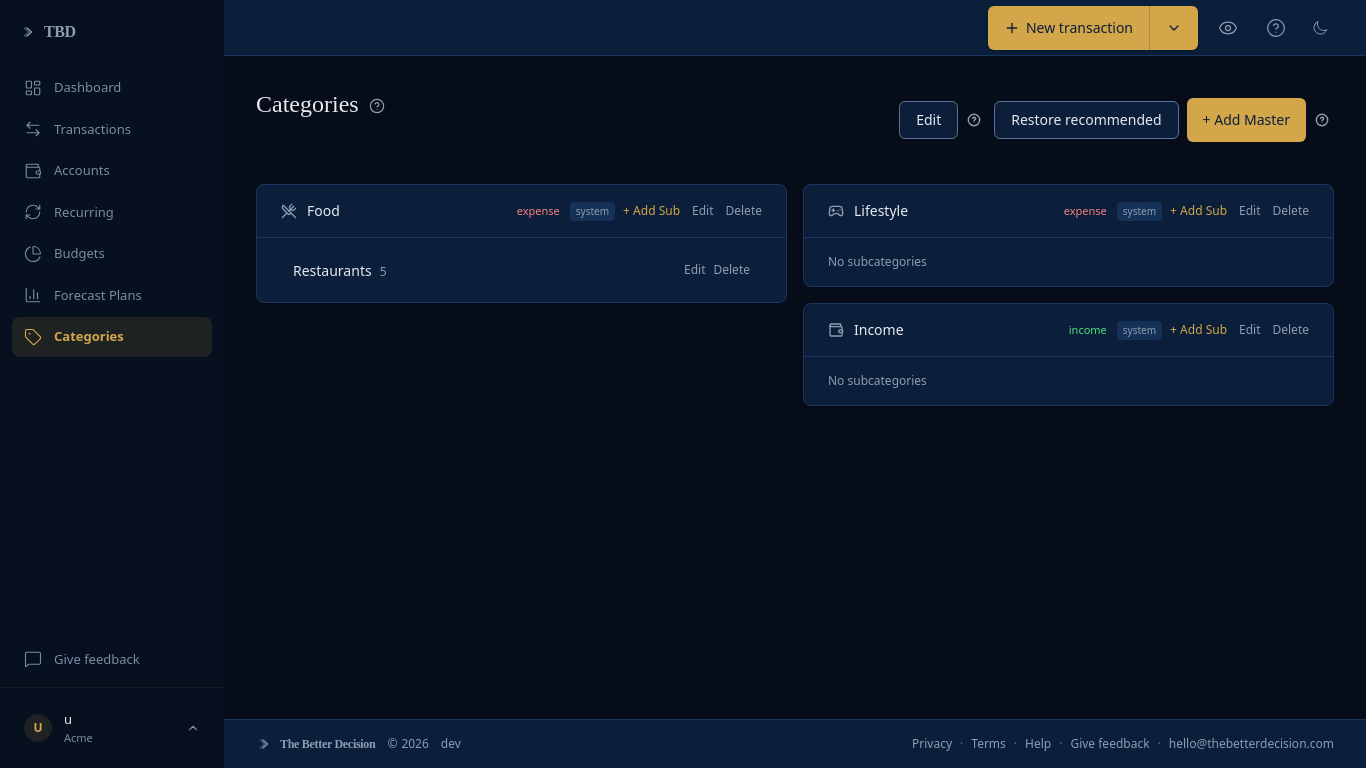
CategoriesPage -C2b render-level gates › exiting Edit mode clears drag handles and drop zones
Expected: the text "Restaurants" is shown, [293, 261, 372, 280]
Click the button with test id "categories-edit-toggle" at x=929, y=120, box [899, 101, 958, 139]
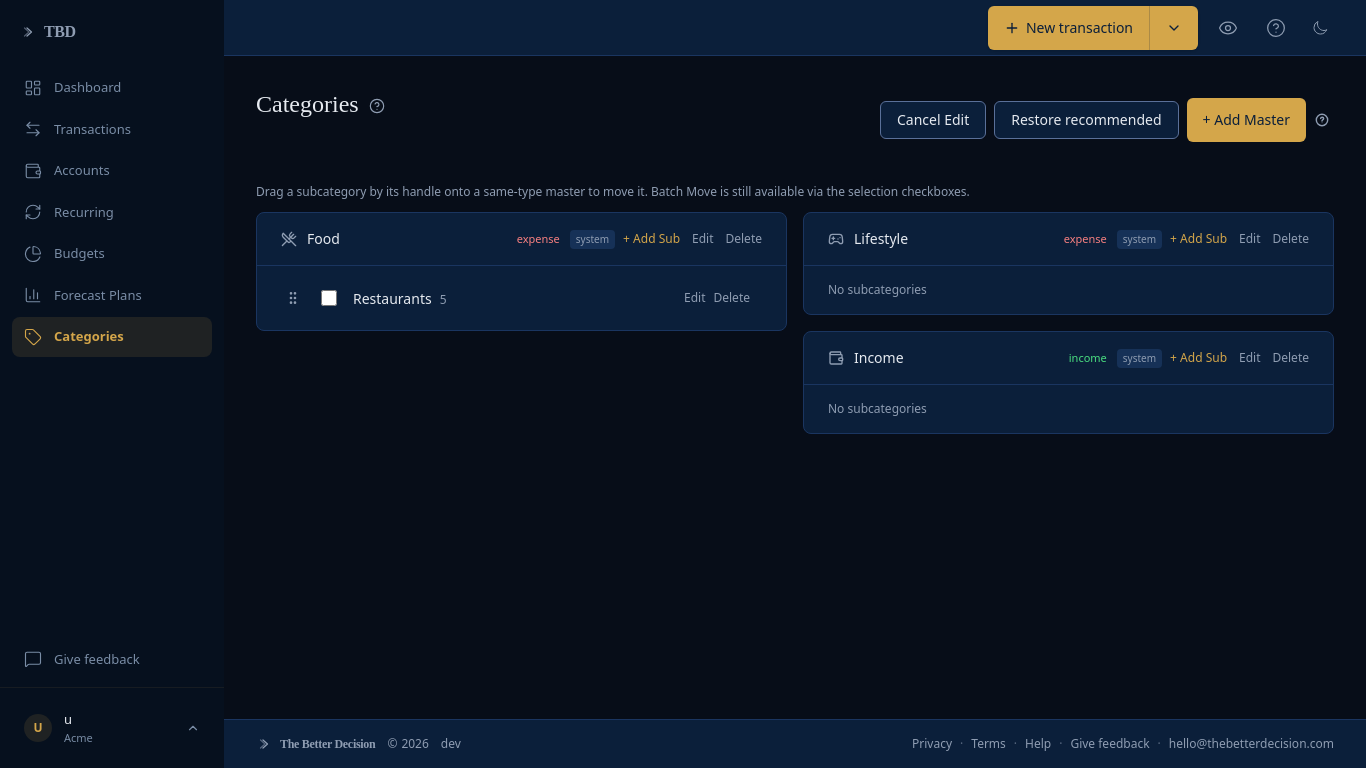
Now the button with test id "sub-drag-handle-101" is shown, box [281, 282, 305, 314]
Click the button with test id "categories-edit-toggle" at x=933, y=120, box [880, 101, 986, 139]
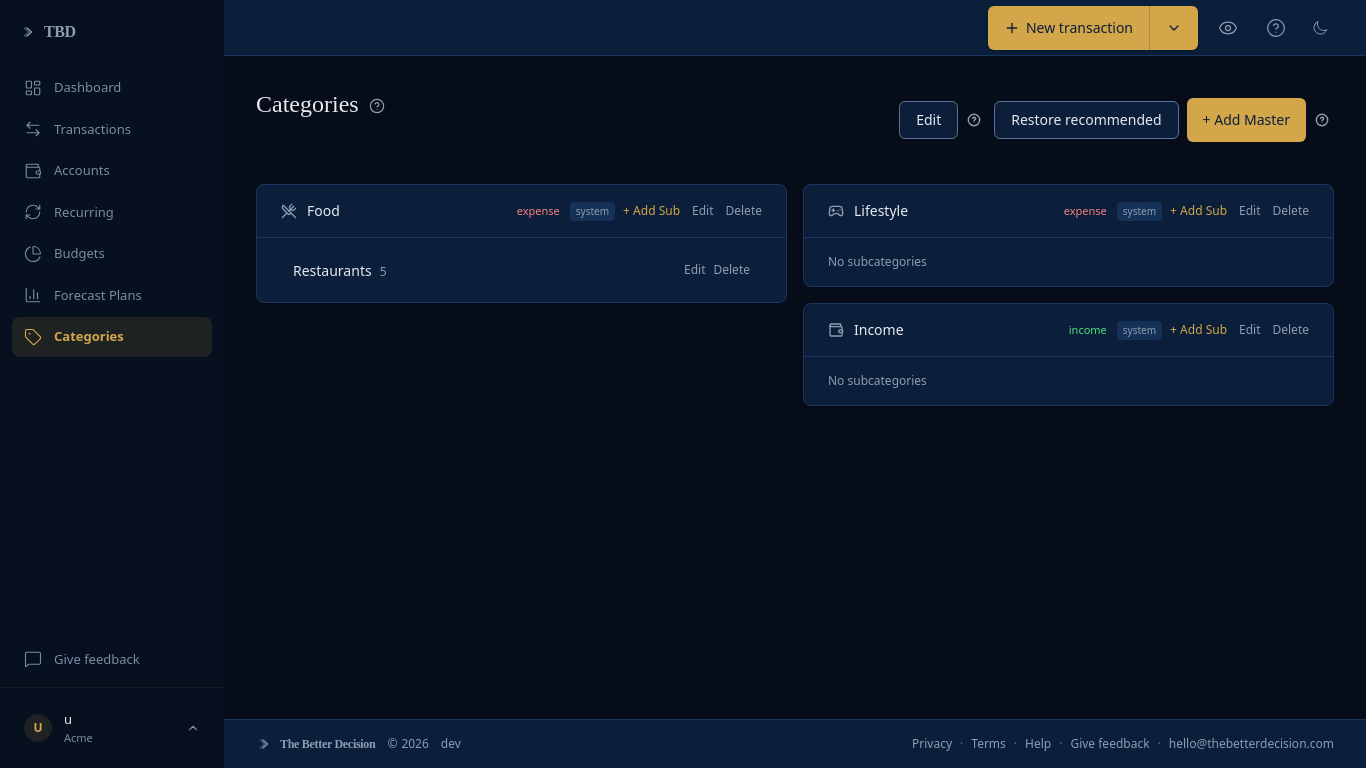
Now the button with test id "sub-drag-handle-101" is gone
Now the text with test id "categories-drag-instructions" is gone
